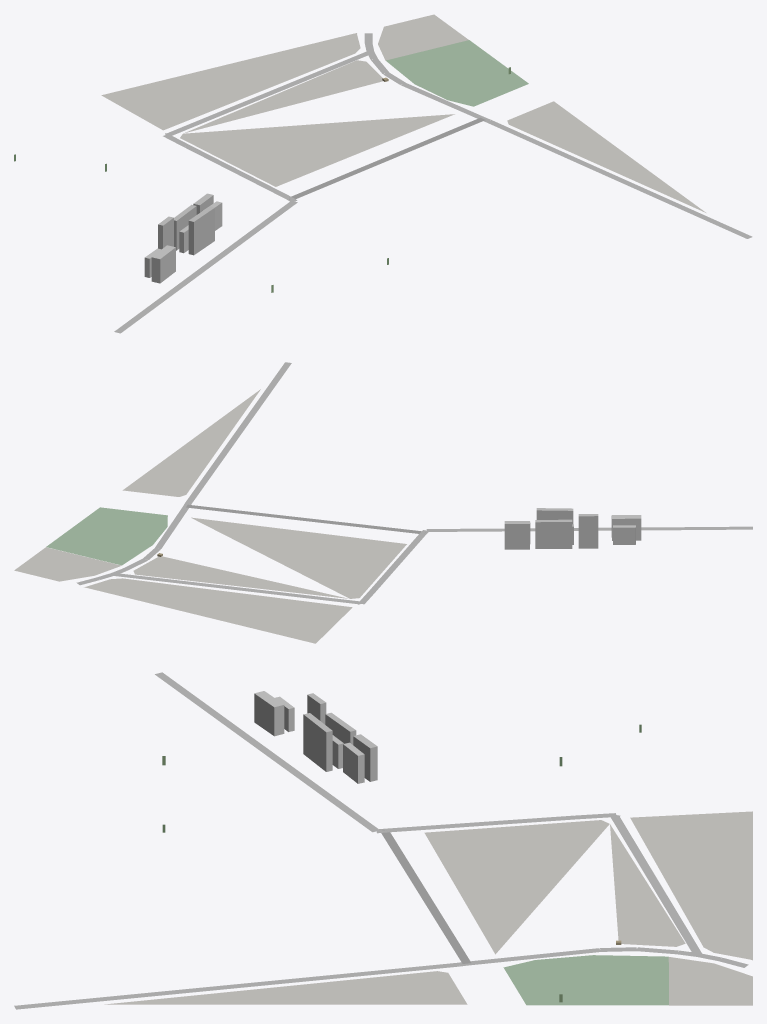
The picture shows the model from 3 angles, top to bottom: view 1: azimuth 30°, elevation 25°; view 2: azimuth 150°, elevation 25°; view 3: azimuth 270°, elevation 25°; orthographic projection. The views are drawn at different scales.
Size of the model in its own units: 601 by 37.45 by 558.
